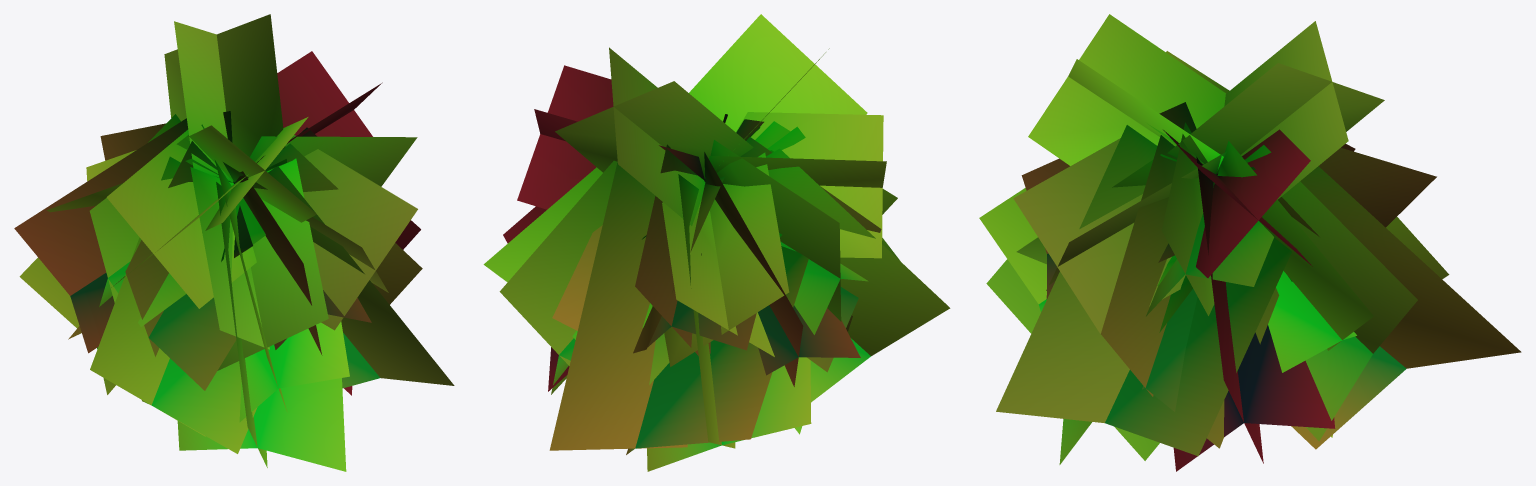
File: Super_11_13.fbx
3 views of the same model, side by side, from view 1: azimuth 30°, elevation 25°; view 2: azimuth 150°, elevation 25°; view 3: azimuth 270°, elevation 25° (orthographic). The views are drawn at different scales.
Parts seen in each view (by area): view 1: Super_11_13; view 2: Super_11_13; view 3: Super_11_13.
Part boxes in pixels (bbox=[...]): Super_11_13: bbox=[14, 14, 454, 471]; Super_11_13: bbox=[483, 14, 950, 471]; Super_11_13: bbox=[979, 14, 1521, 471].
Bounding box in the file's own units: 1407 × 1398 × 1590.
